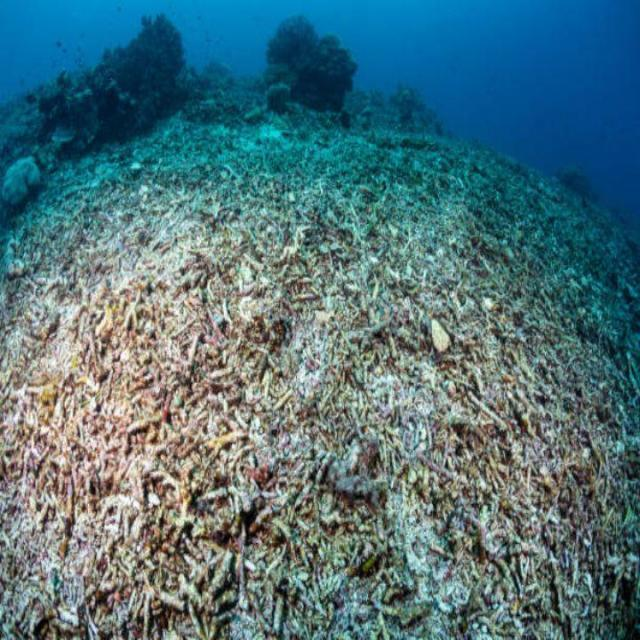Dead Coral: (73, 165, 526, 501)
